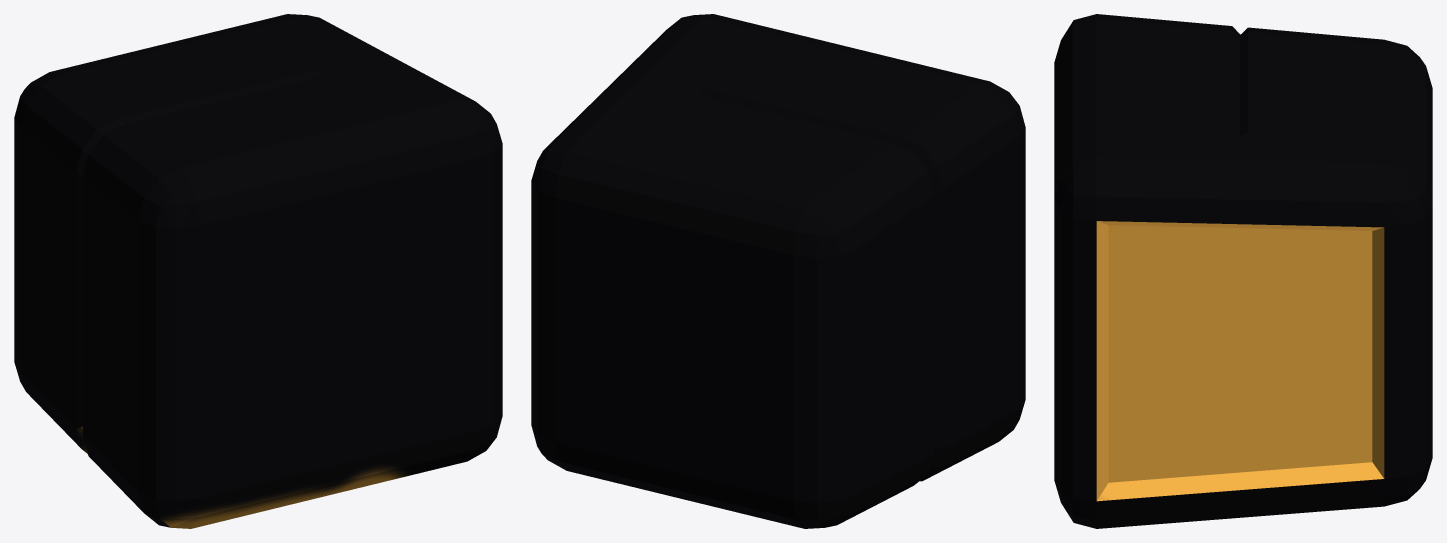
The model's file is RoboCat.dae.
3 views of the same model, side by side, from view 1: azimuth 30°, elevation 25°; view 2: azimuth 150°, elevation 25°; view 3: azimuth 270°, elevation 25° (orthographic). The views are drawn at different scales.
Parts seen in each view (by area): view 1: Cube; view 2: Cube; view 3: Cube.
Part boxes in pixels (<box>): Cube: <box>14,14,502,528</box>; Cube: <box>531,14,1025,528</box>; Cube: <box>1054,14,1432,528</box>.
Size of the model in its own units: 2 by 1.78 by 1.91.
